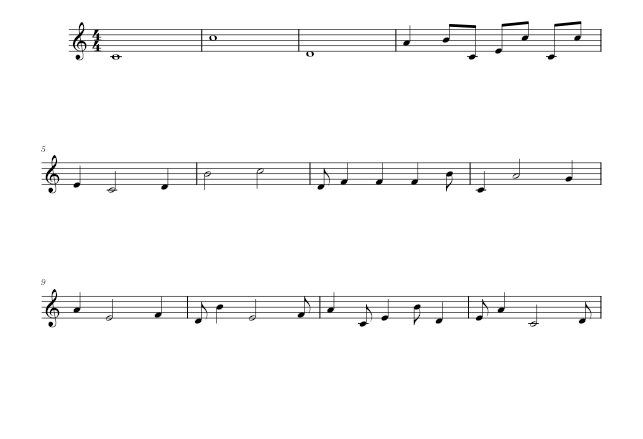Treble Clef: (69, 17, 91, 65), (43, 152, 63, 197), (43, 287, 63, 332)
